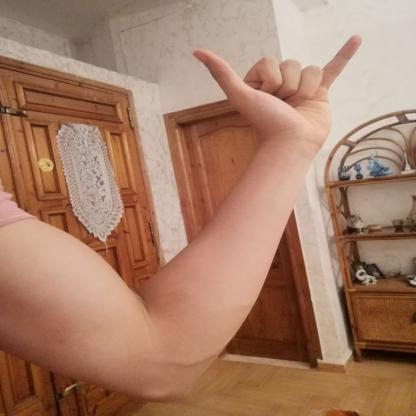YA: (180, 23, 376, 158)
